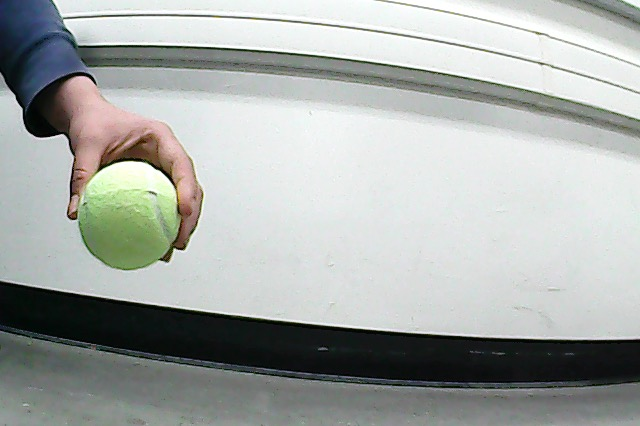ball: (79, 161, 181, 271)
